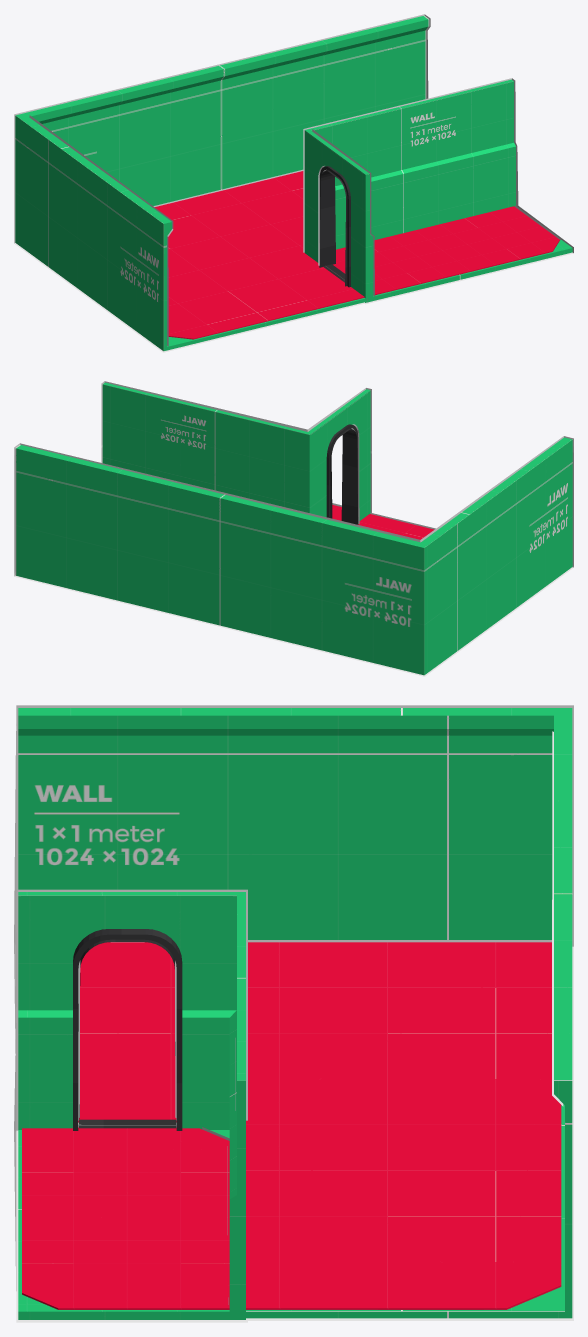
The model's file is room.gltf.
The picture shows the model from 3 angles, top to bottom: view 1: azimuth 30°, elevation 25°; view 2: azimuth 150°, elevation 25°; view 3: azimuth 270°, elevation 25°; orthographic projection. The views are drawn at different scales.
Visible parts, largest first — view 1: Room2, Room1; view 2: Room2, Room1; view 3: Room2, Room1.
Boxes of the visible parts, x1=… form: Room2: x1=14, y1=14, x2=430, y2=352; Room1: x1=303, y1=78, x2=573, y2=304; Room2: x1=14, y1=436, x2=573, y2=676; Room1: x1=101, y1=381, x2=371, y2=524; Room2: x1=14, y1=705, x2=573, y2=1320; Room1: x1=14, y1=889, x2=247, y2=1322.
Size of what is drawn, in the model's own units: 24.37 by 7.42 by 15.37.
4 materials, 3 textured.
